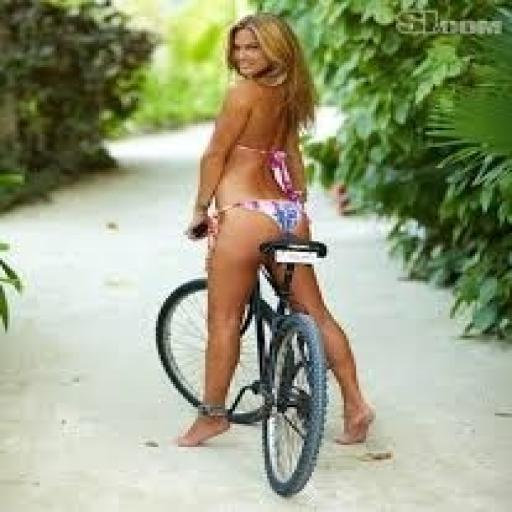cycling: (171, 11, 381, 451)
